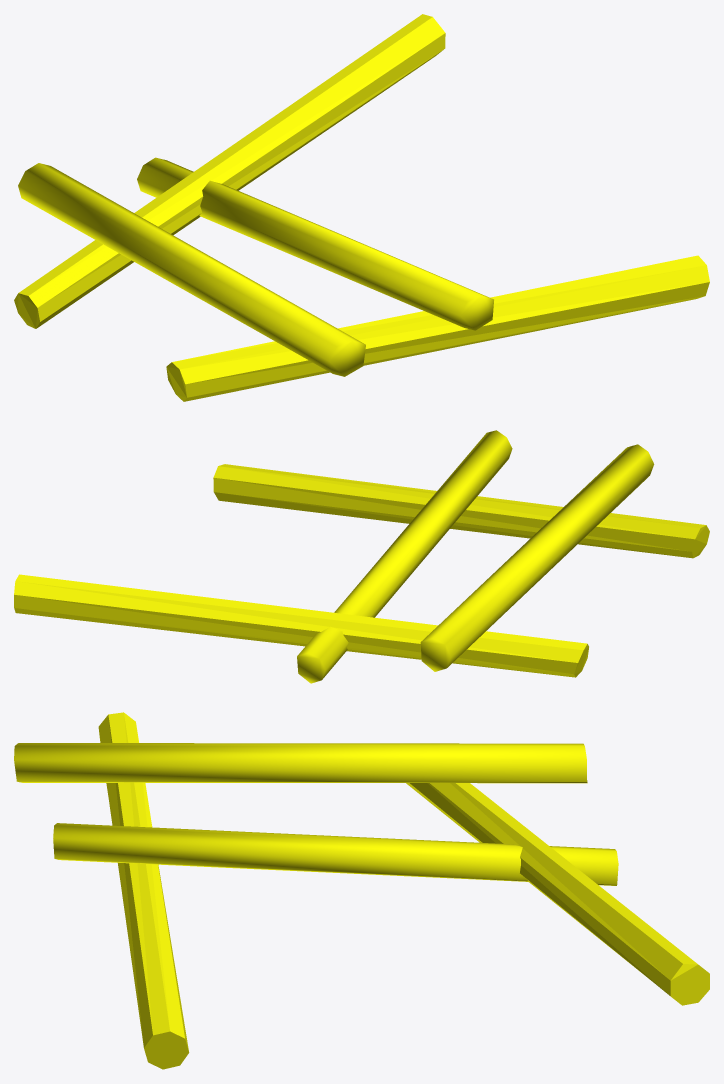
The model's file is camp_woodhut_break02.glb.
3 renders of one model, top to bottom at view 1: azimuth 30°, elevation 25°; view 2: azimuth 150°, elevation 25°; view 3: azimuth 270°, elevation 25°, orthographic. The views are drawn at different scales.
Visible parts, largest first — view 1: camp_woodhut_break02; view 2: camp_woodhut_break02; view 3: camp_woodhut_break02.
Boxes of the visible parts, bbox=[...] form: camp_woodhut_break02: bbox=[14, 14, 709, 401]; camp_woodhut_break02: bbox=[14, 430, 709, 683]; camp_woodhut_break02: bbox=[14, 712, 709, 1069].
Bounding box in the file's own units: 4.9 × 0.9498 × 5.18.
1 material, 1 textured.
